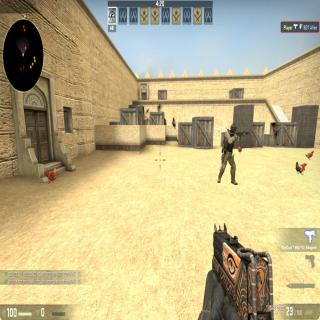CT-Body: (218, 121, 238, 182), (172, 116, 176, 128), (164, 117, 167, 125)
CT-Head: (228, 123, 236, 133), (172, 116, 175, 122), (164, 117, 165, 121)
